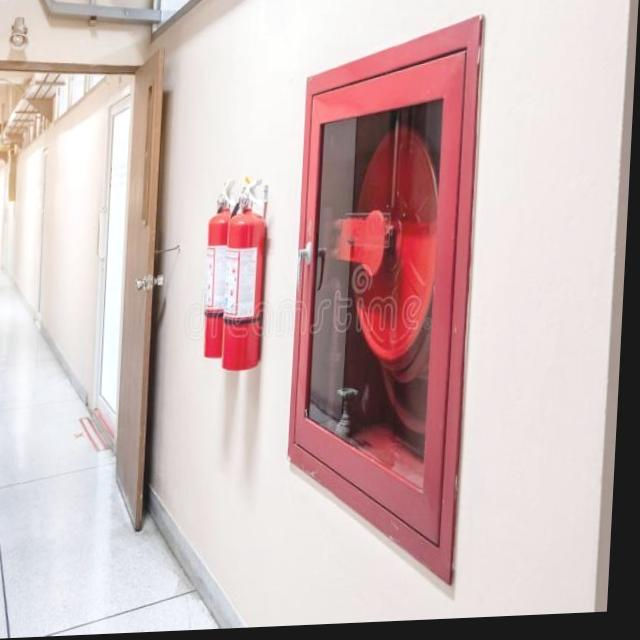FireExtinguisher: (221, 179, 273, 373), (203, 175, 245, 362)
